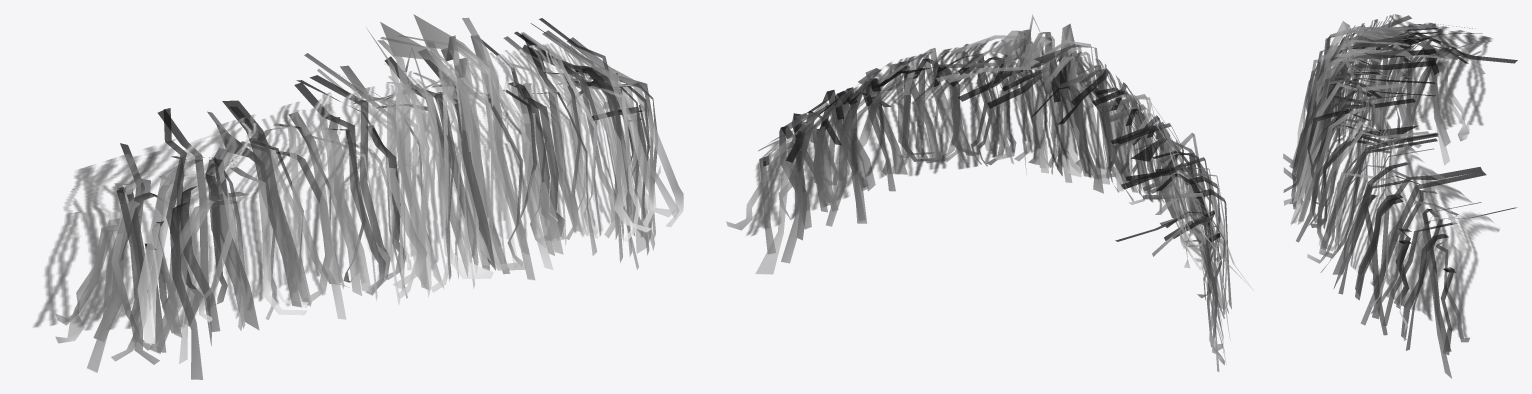
The model's file is facial_moustache.gltf.
3 renders of one model, left to right at view 1: azimuth 30°, elevation 25°; view 2: azimuth 150°, elevation 25°; view 3: azimuth 270°, elevation 25°, orthographic. The views are drawn at different scales.
Parts seen in each view (by area): view 1: facial_moustache; view 2: facial_moustache; view 3: facial_moustache.
Boxes of the visible parts, box(x1,y1,x2,y2) form: facial_moustache: box(33, 14, 683, 379); facial_moustache: box(726, 14, 1252, 371); facial_moustache: box(1283, 14, 1517, 378).
Bounding box in the file's own units: 0.064 × 0.032 × 0.0276.
1 material, 1 textured.
